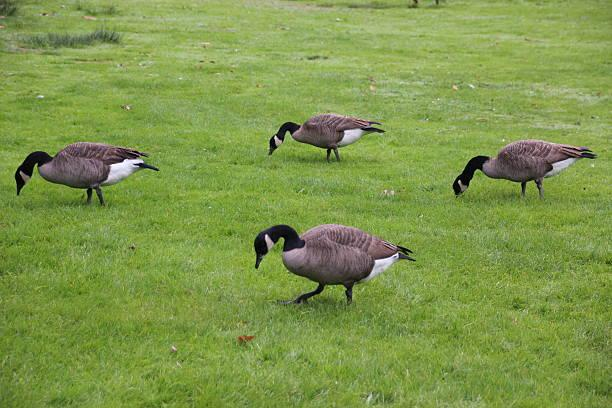Canadian-Goose: (246, 220, 414, 314), (10, 134, 153, 214), (440, 132, 599, 199), (264, 107, 384, 167)
